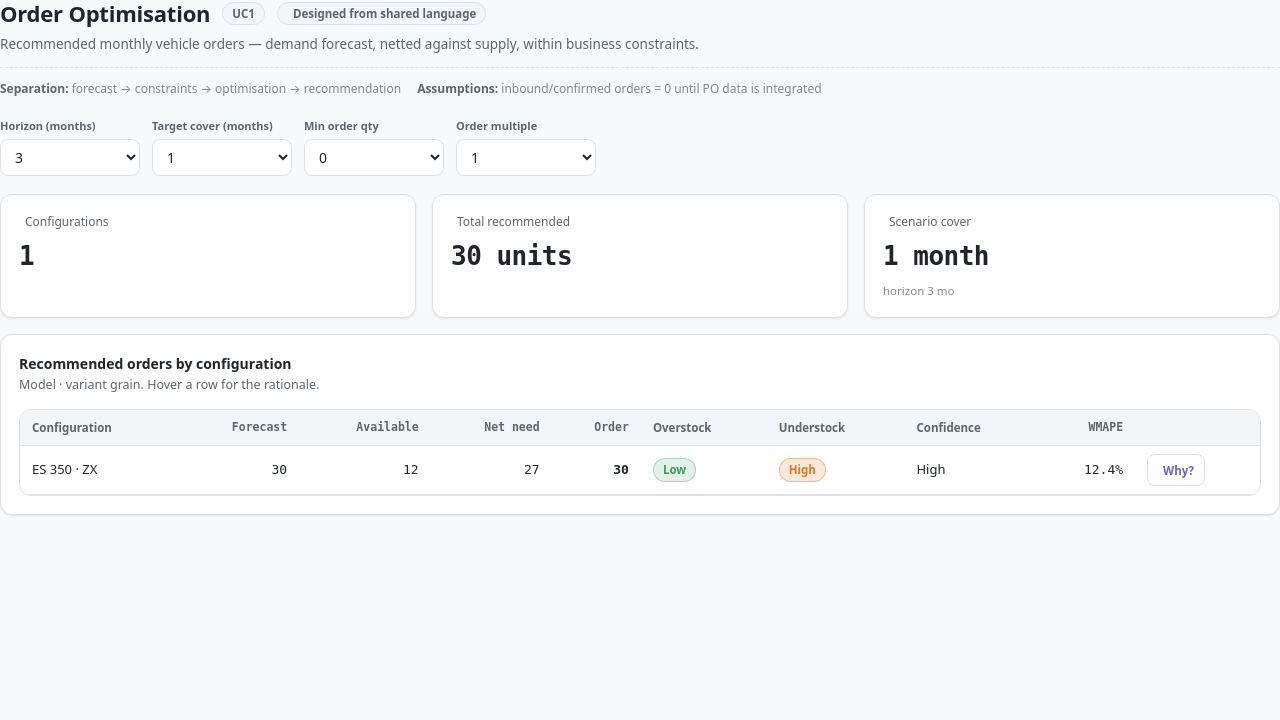
V3-UC0x-002 — the drawer is wired into every intelligence screen › UC1 — an order row explains its configuration
Step 1. Click the button with aria-label "why this recommendation? es 350 zx" → coordinates (1176, 470), box [1147,454,1205,486]
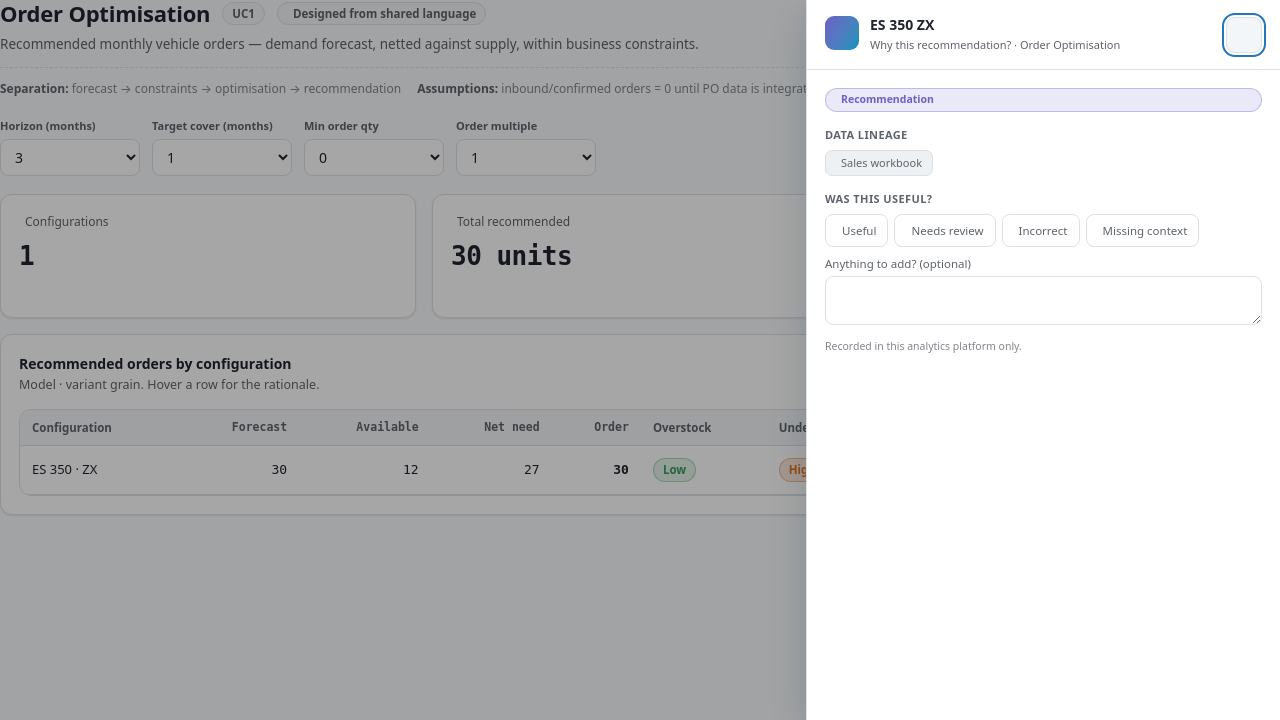
Expected: the text "ES 350 ZX" is shown, [870,15,934,34]
